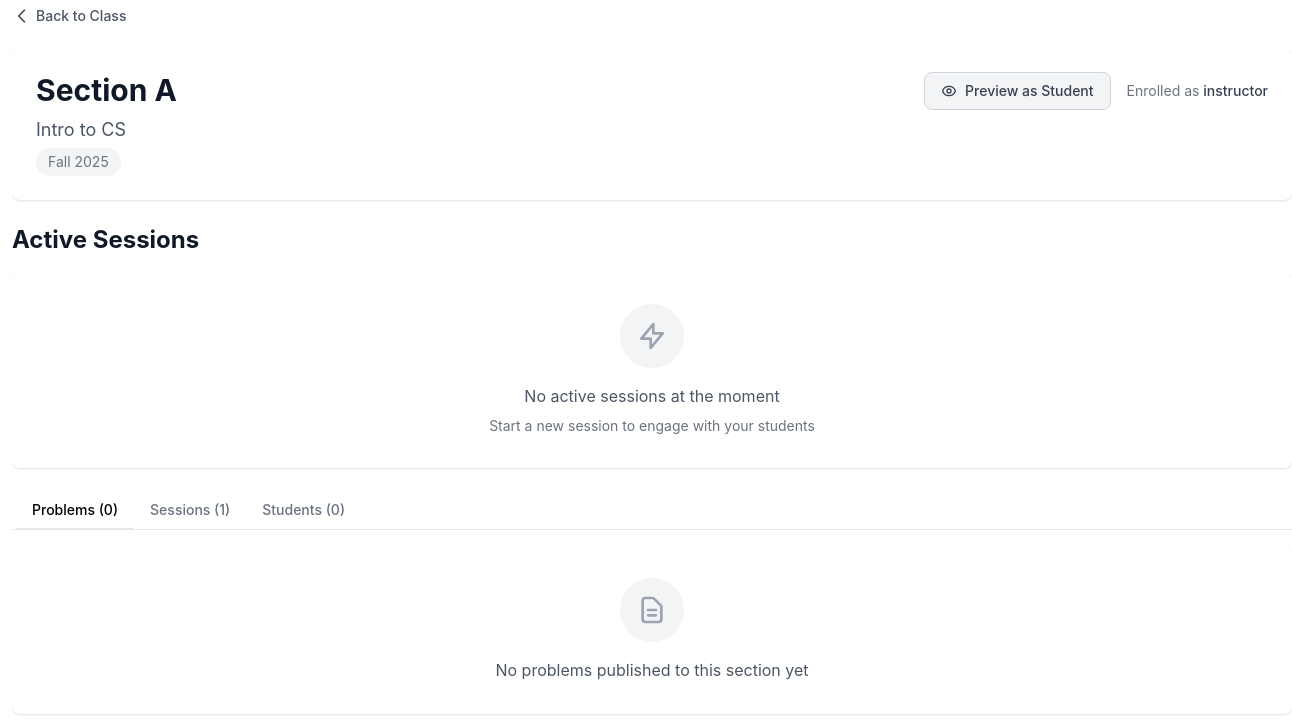
SectionDetailPage › past session navigation › does not show Reopen button on section detail page
Step 1. Click the tab "Sessions (1)" → (190, 511), box x1=134 y1=492 x2=246 y2=530
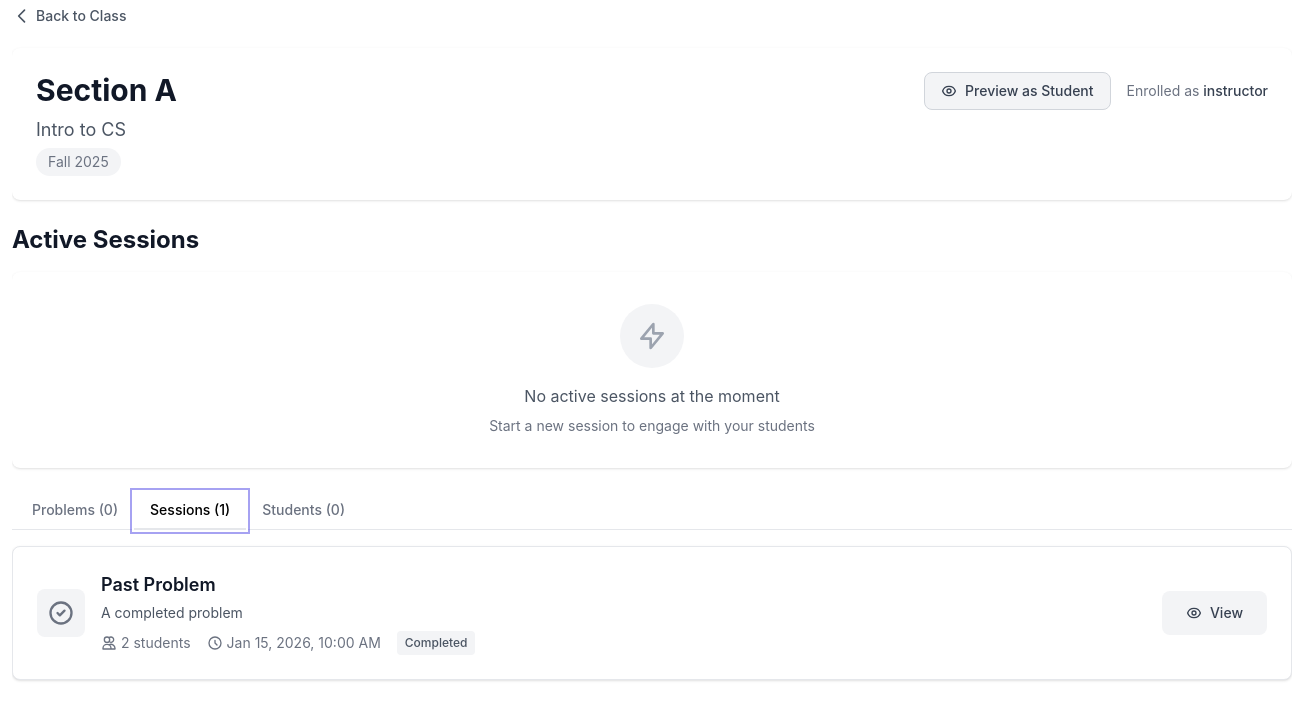
Expected: the heading "Past Problem" is shown, x1=101 y1=574 x2=216 y2=595
